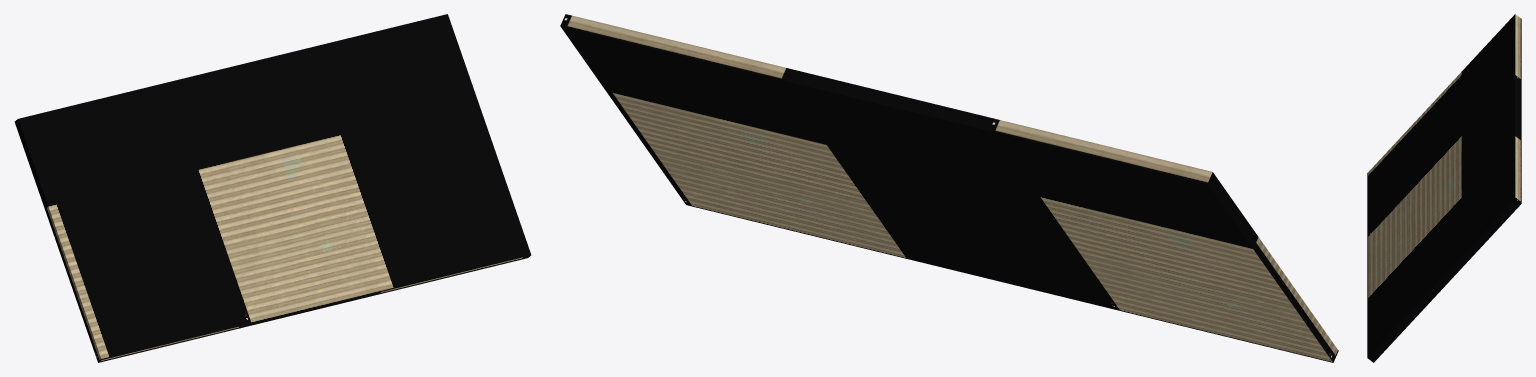
The model's file is link_0_combined_mesh.obj.
3 views of the same model, side by side, from view 1: azimuth 30°, elevation 25°; view 2: azimuth 150°, elevation 25°; view 3: azimuth 270°, elevation 25° (orthographic). The views are drawn at different scales.
Size of the model in its own units: 0.8425 by 0.3475 by 0.2961.
